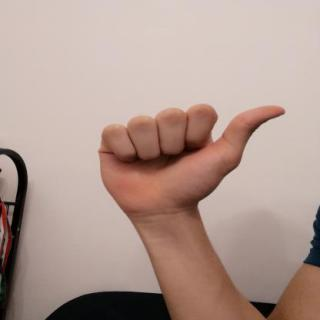DAD: (84, 94, 294, 221)
